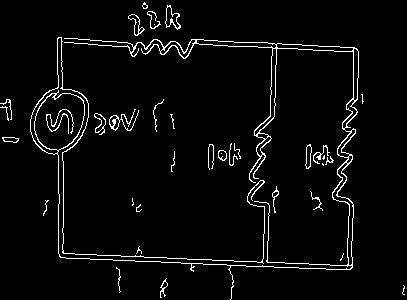-: (1, 135, 21, 145)
0: (108, 113, 121, 131), (312, 151, 324, 167), (216, 147, 227, 162)
1: (205, 142, 215, 171), (304, 142, 314, 171), (262, 200, 263, 201)
2: (126, 12, 146, 37), (93, 111, 108, 138), (146, 10, 162, 31)
V: (120, 107, 141, 131)
k: (164, 4, 182, 32), (228, 140, 242, 167), (321, 144, 335, 167)
